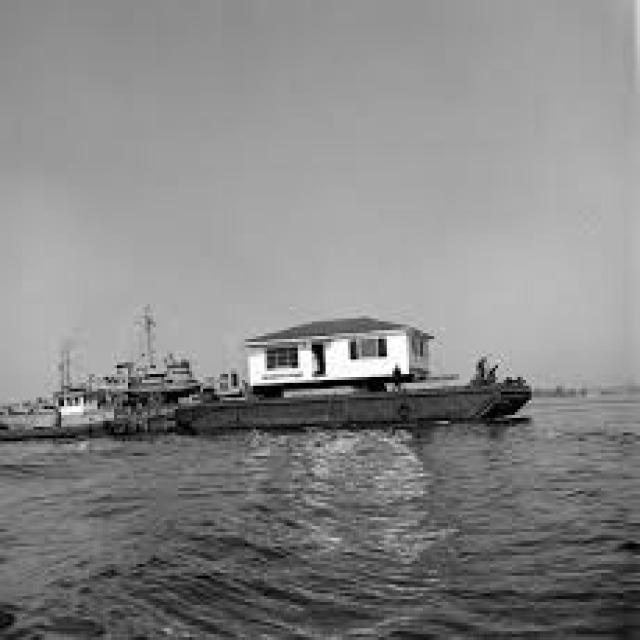houseboat: (116, 304, 545, 464)
